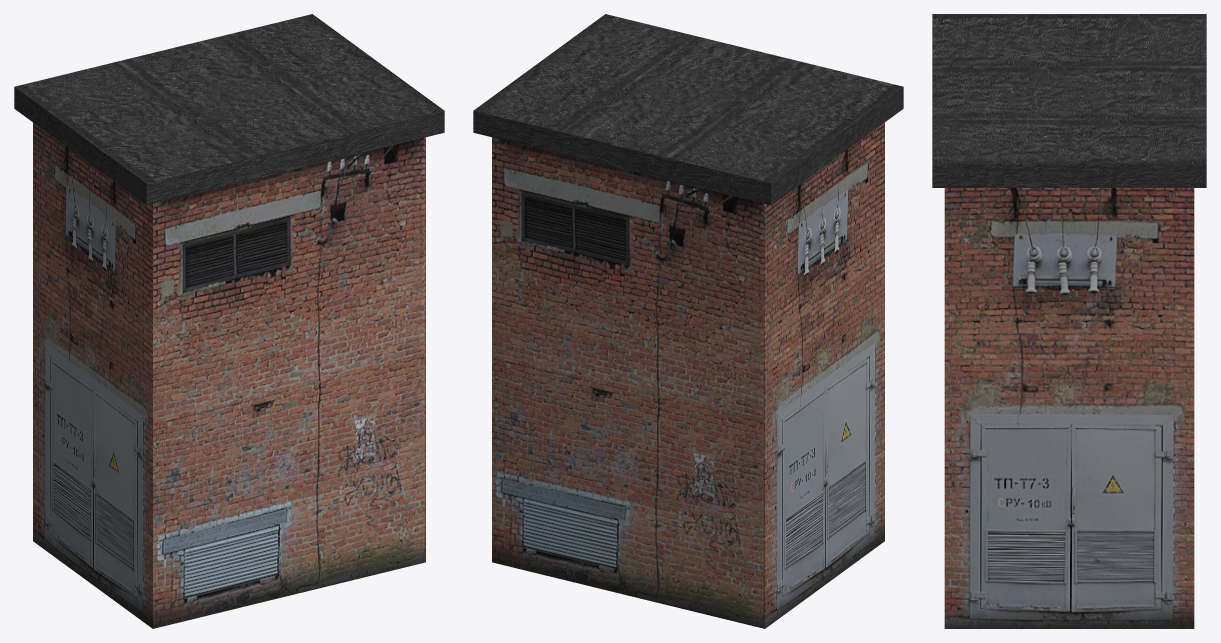
Rendered from sibir_budka4.FBX.
3 views of the same model, side by side, from view 1: azimuth 30°, elevation 25°; view 2: azimuth 150°, elevation 25°; view 3: azimuth 270°, elevation 25° (orthographic). The views are drawn at different scales.
Visible parts, largest first — view 1: sibir_budka4; view 2: sibir_budka4; view 3: sibir_budka4.
Boxes of the visible parts, x1,y1,x2,y2 form: sibir_budka4: (14, 14, 444, 628); sibir_budka4: (473, 14, 903, 628); sibir_budka4: (932, 14, 1206, 628).
Bounding box in the file's own units: 3.63 × 2.79 × 5.27.
